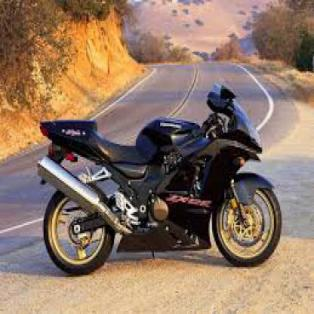Motocicleta: (30, 77, 288, 276)
